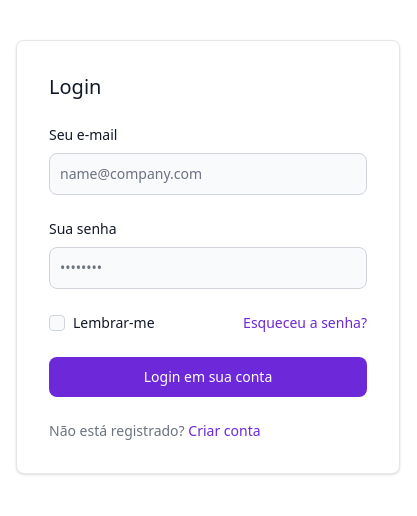
SignIn Component Tests › shows an error message when the email is not provided
Click the button "Login em sua conta": coordinates (208, 377) [49,357,367,397]
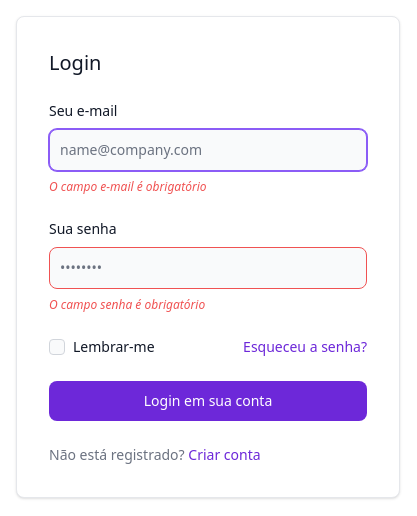
Now the text "O campo e-mail é obrigatório" is shown, box [49,178,206,195]
